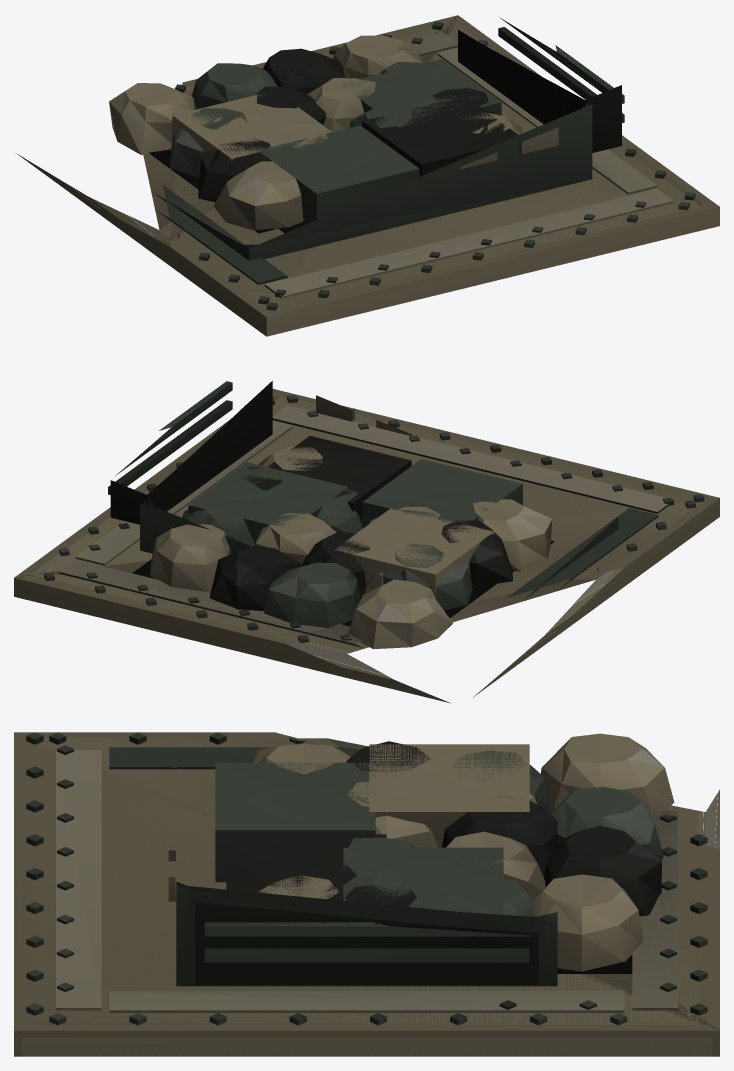
Rendered from neutral_generator_rubble.glb.
The picture shows the model from 3 angles, top to bottom: view 1: azimuth 30°, elevation 25°; view 2: azimuth 150°, elevation 25°; view 3: azimuth 270°, elevation 25°; orthographic projection. The views are drawn at different scales.
Parts seen in each view (by area): view 1: body (×3); view 2: body (×3); view 3: body (×3).
Part boxes in pixels (x1=…): body (×3): x1=16, y1=15, x2=719, y2=336; body (×3): x1=14, y1=381, x2=719, y2=703; body (×3): x1=14, y1=732, x2=719, y2=1056.
Bounding box in the file's own units: 3.7 × 0.777 × 3.7.
